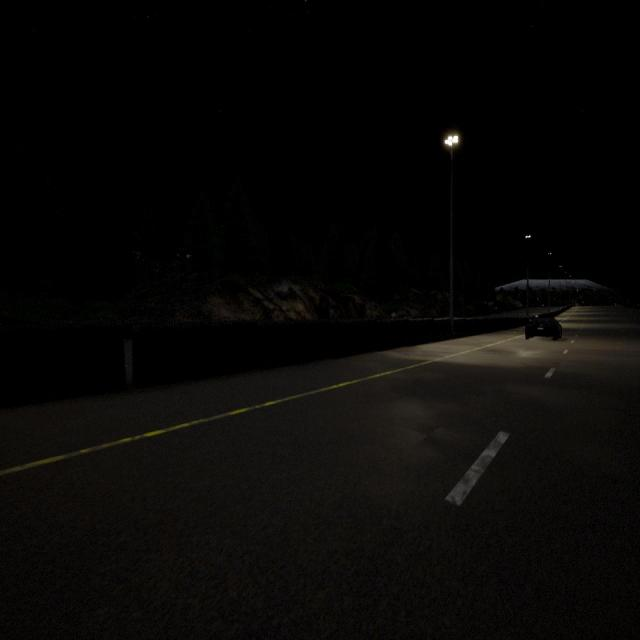Vehicle: (525, 316, 562, 341)
